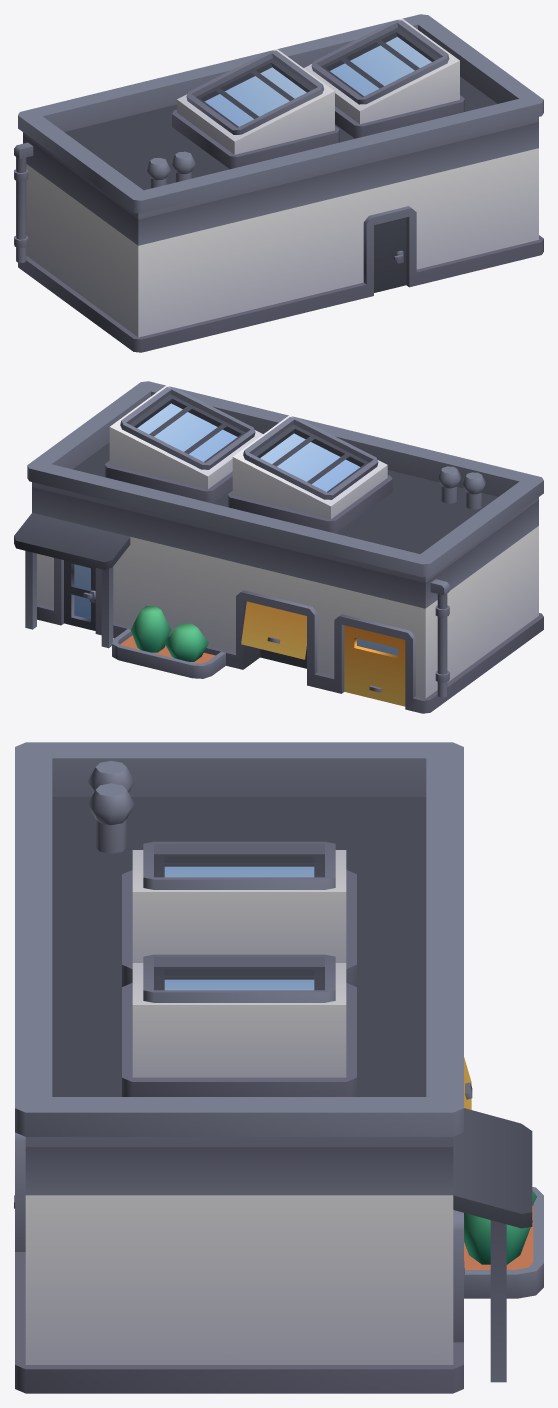
The model's file is warehouse_6.fbx.
3 views of the same model, one above another, from view 1: azimuth 30°, elevation 25°; view 2: azimuth 150°, elevation 25°; view 3: azimuth 270°, elevation 25° (orthographic). The views are drawn at different scales.
Parts seen in each view (by area): view 1: warehouse_6; view 2: warehouse_6; view 3: warehouse_6.
Part boxes in pixels (<box>): warehouse_6: <box>14,14,543,352</box>; warehouse_6: <box>14,381,543,713</box>; warehouse_6: <box>14,742,543,1393</box>.
Size of the model in its own units: 1.68 by 0.7146 by 0.992.
2 materials, 2 textured.
